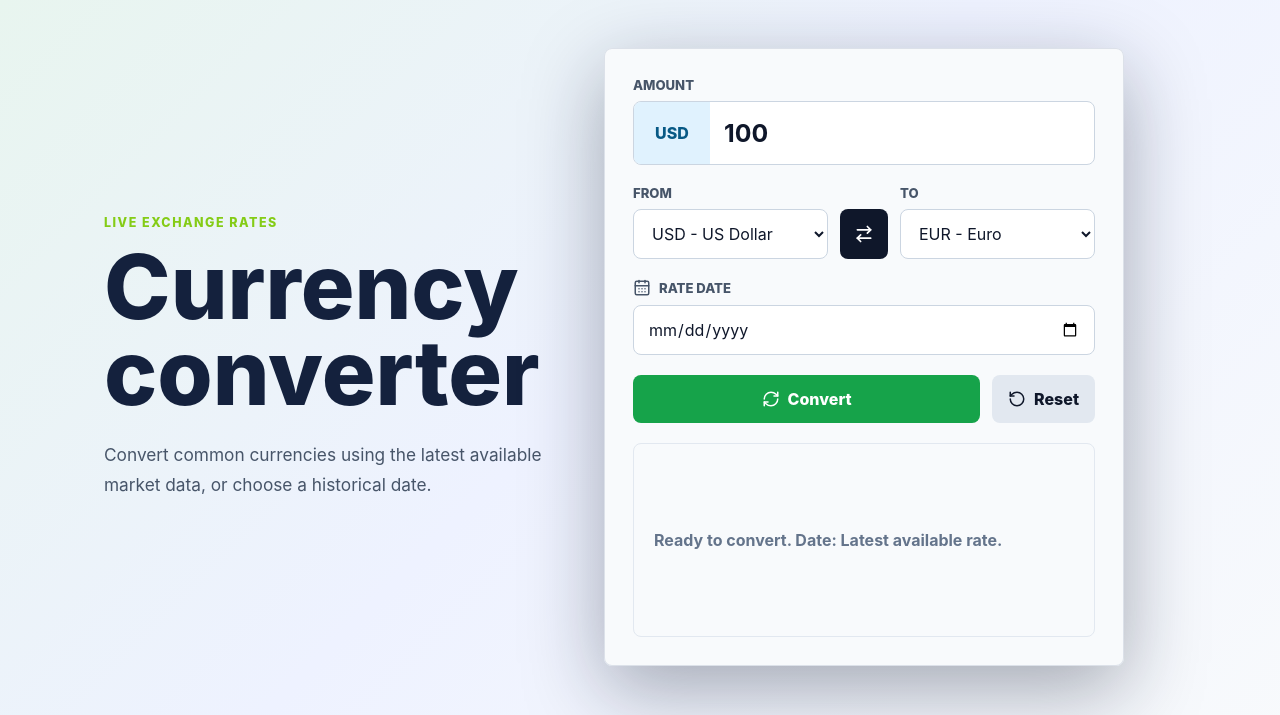
converts currencies with the live-rate endpoint response
Click the button "Convert": click(807, 399) [633,375,980,423]
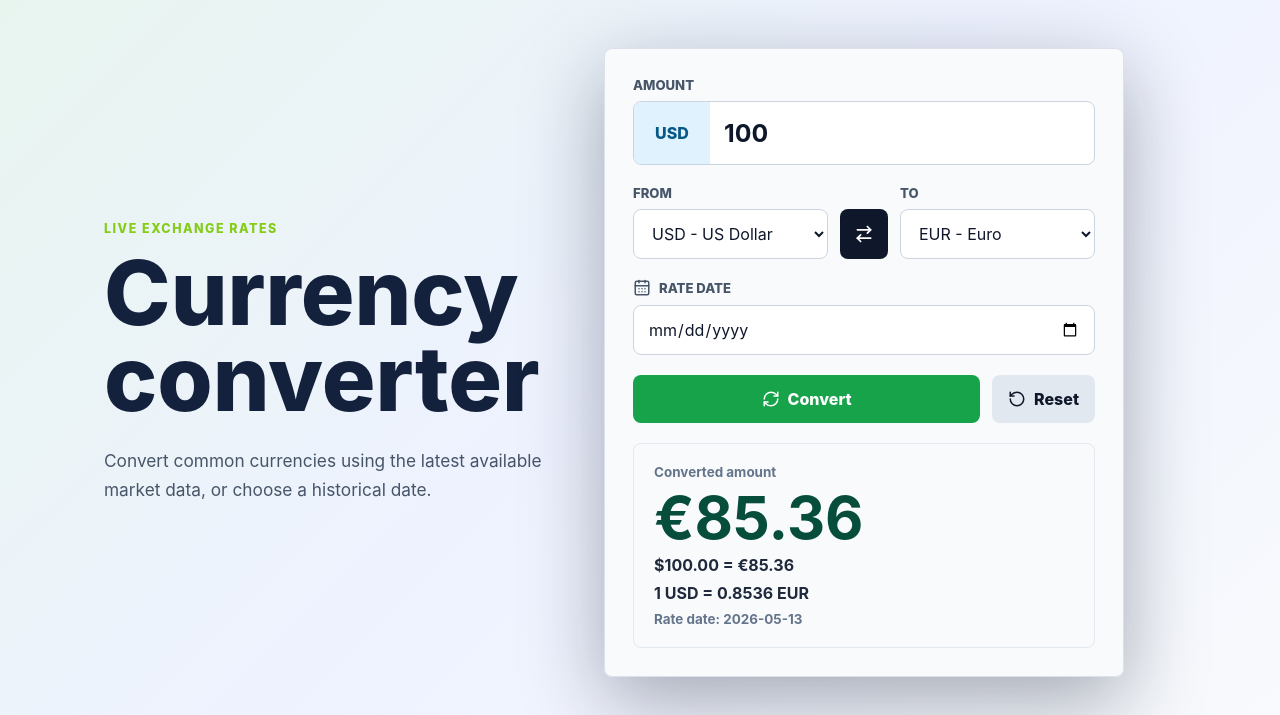
expect the text "$100.00 = €85.36" is shown: met, box [654,555,794,575]
